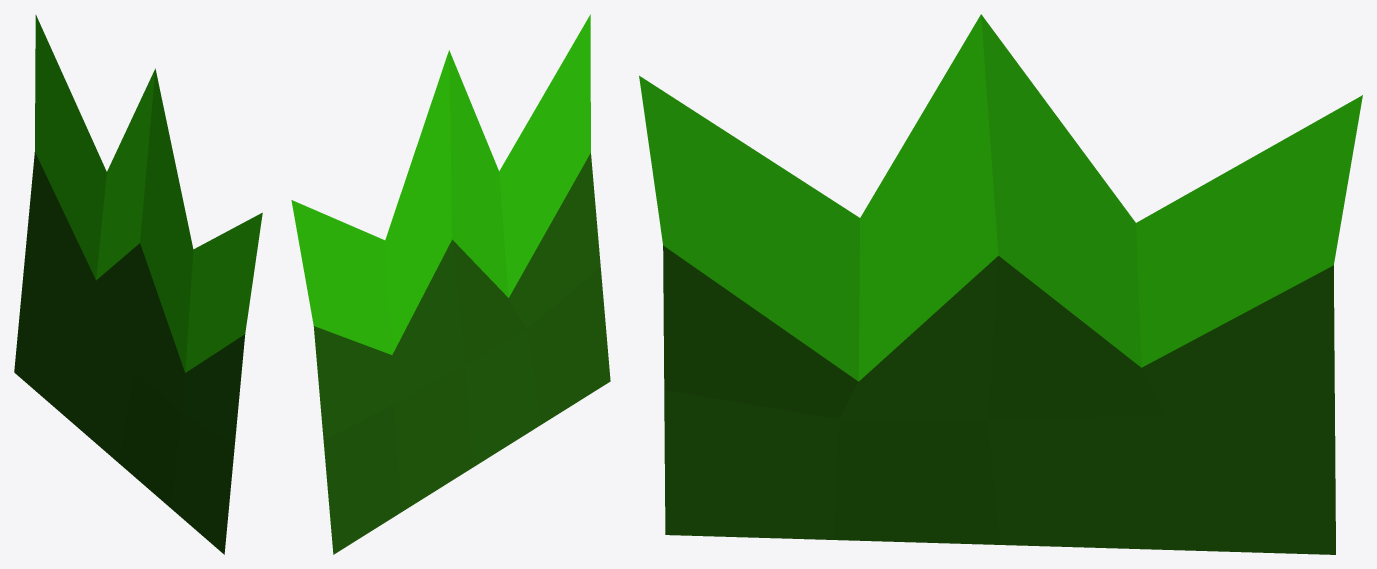
Rendered from Herbe 1.fbx.
3 renders of one model, left to right at view 1: azimuth 30°, elevation 25°; view 2: azimuth 150°, elevation 25°; view 3: azimuth 270°, elevation 25°, orthographic. The views are drawn at different scales.
Visible parts, largest first — view 1: Plane.003; view 2: Plane.003; view 3: Plane.003.
Boxes of the visible parts, x1,y1,x2,y2 form: Plane.003: (14,14,262,554); Plane.003: (291,14,610,554); Plane.003: (639,14,1362,554).
Bounding box in the file's own units: 10.61 × 66.15 × 78.79.
